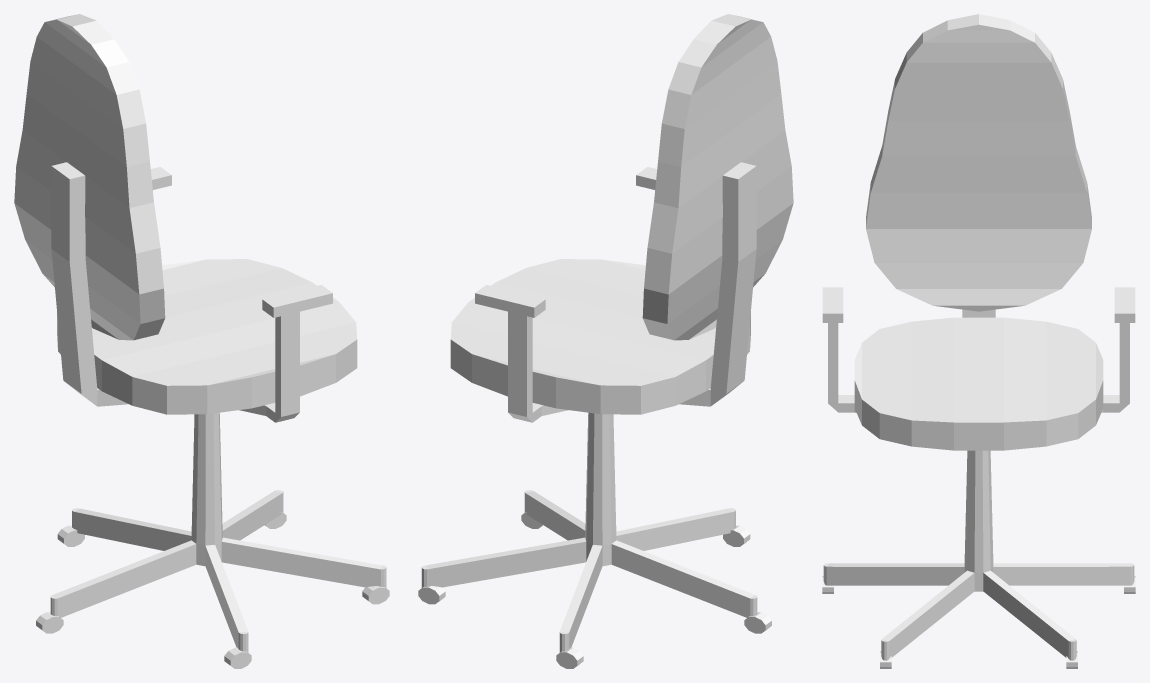
The model's file is chair.gltf.
The picture shows the model from 3 angles, left to right: view 1: azimuth 30°, elevation 25°; view 2: azimuth 150°, elevation 25°; view 3: azimuth 270°, elevation 25°; orthographic projection. The views are drawn at different scales.
Visible parts, largest first — view 1: chair; view 2: chair; view 3: chair.
Part boxes in pixels (x1,y1,x2,y2): chair: (14,14,389,668); chair: (418,14,793,668); chair: (822,14,1135,668).
Size of the model in its own units: 0.7466 by 1.45 by 0.7571.
1 material, 1 textured.
